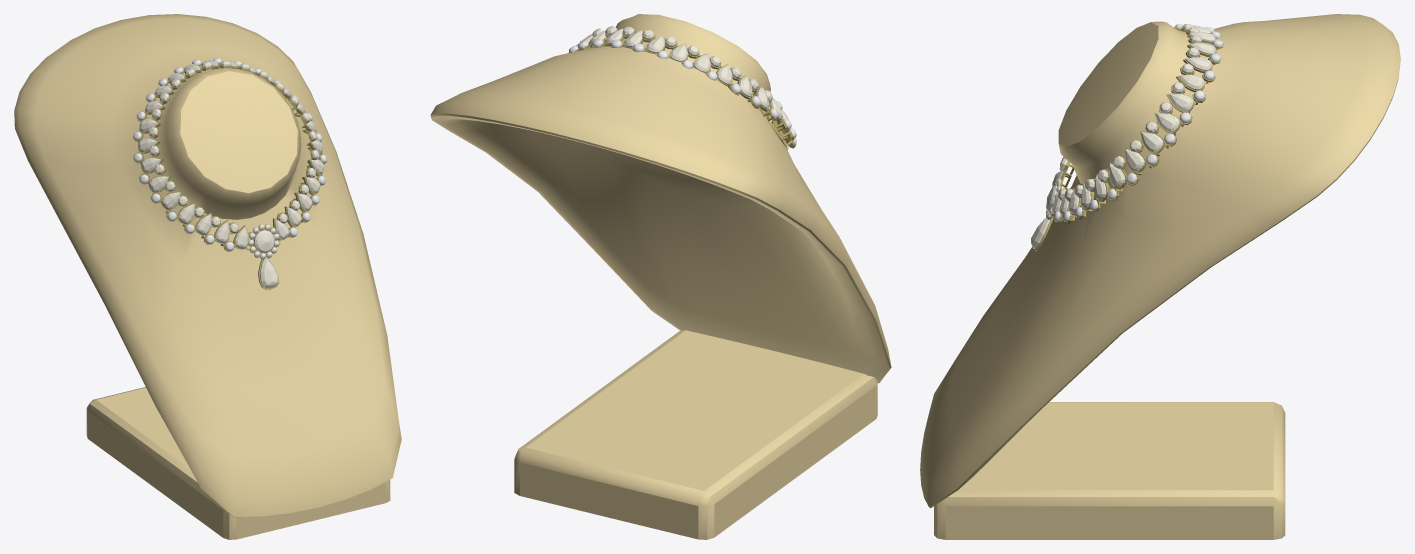
File: Necklace_9.fbx
3 views of the same model, side by side, from view 1: azimuth 30°, elevation 25°; view 2: azimuth 150°, elevation 25°; view 3: azimuth 270°, elevation 25° (orthographic). The views are drawn at different scales.
Parts seen in each view (by area): view 1: SM_Stand_Necklace_3, SM_Necklace_1; view 2: SM_Stand_Necklace_3, SM_Necklace_1; view 3: SM_Stand_Necklace_3, SM_Necklace_1.
Part boxes in pixels (left/top/right/bottom): SM_Stand_Necklace_3: left=14, top=14, right=401, bottom=539; SM_Necklace_1: left=133, top=58, right=327, bottom=289; SM_Stand_Necklace_3: left=430, top=14, right=891, bottom=539; SM_Necklace_1: left=567, top=26, right=796, bottom=150; SM_Stand_Necklace_3: left=920, top=14, right=1400, bottom=539; SM_Necklace_1: left=1031, top=24, right=1223, bottom=251.
Bounding box in the file's own units: 22.51 × 29.29 × 27.78.
